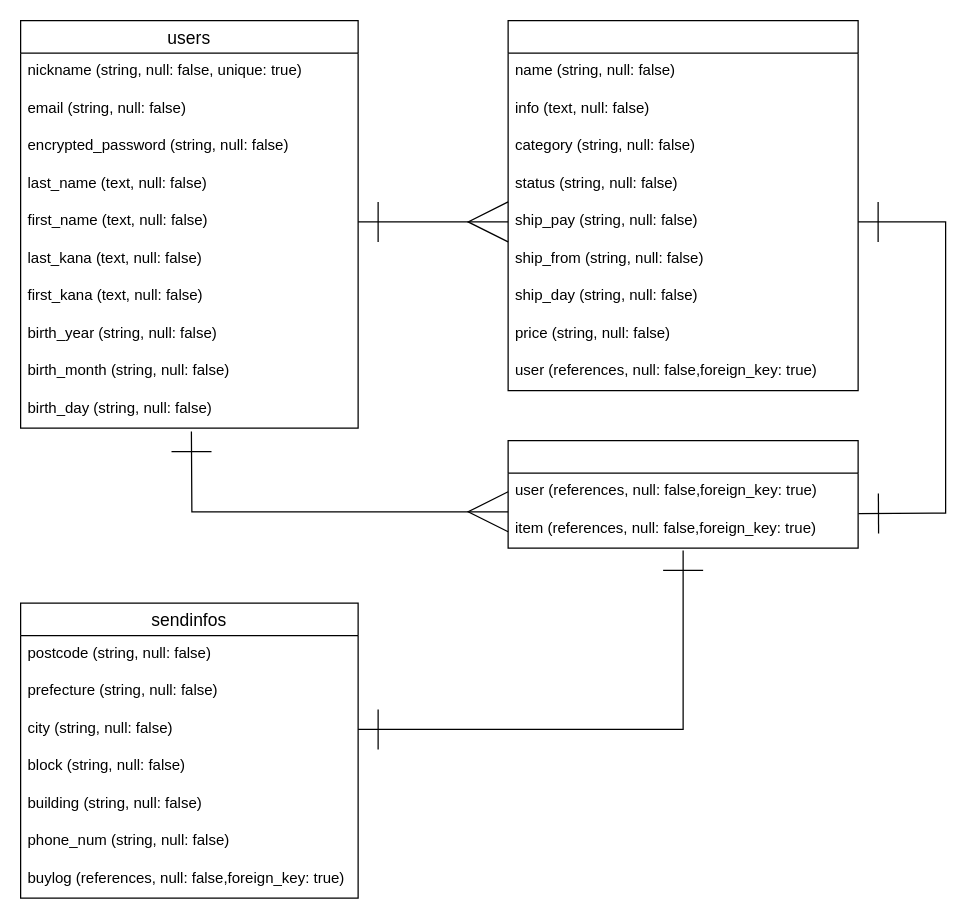
The diagram is 966 pixels wide and 919 high, and some of its shapes have lost their labels. The shapes that lost their labels are listed below. From the top down, each one's box as (x1, y1, x2, y2) in pixels, then its label:
(507, 19, 858, 391): items
(507, 439, 858, 548): buylogs
